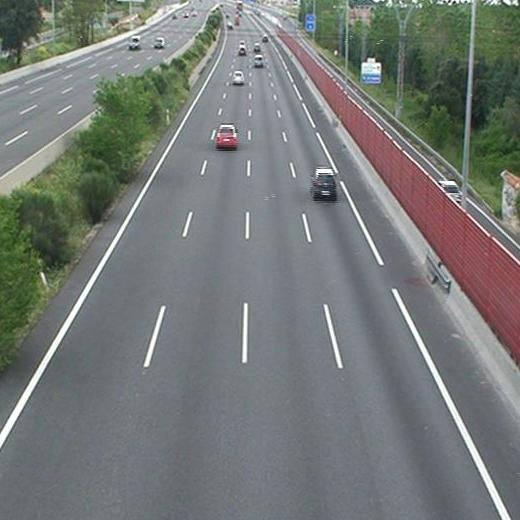car: (311, 170, 337, 197), (216, 124, 237, 147), (232, 72, 243, 85), (253, 55, 263, 66), (237, 47, 247, 56), (253, 43, 261, 50)
